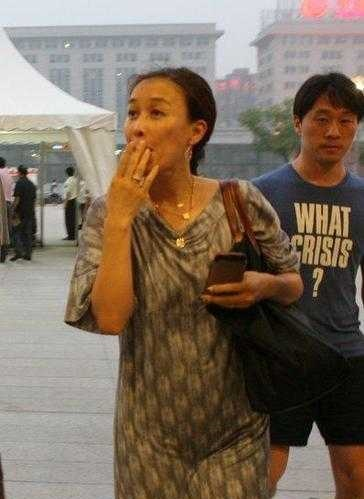face: (126, 80, 184, 173), (302, 93, 355, 164)
